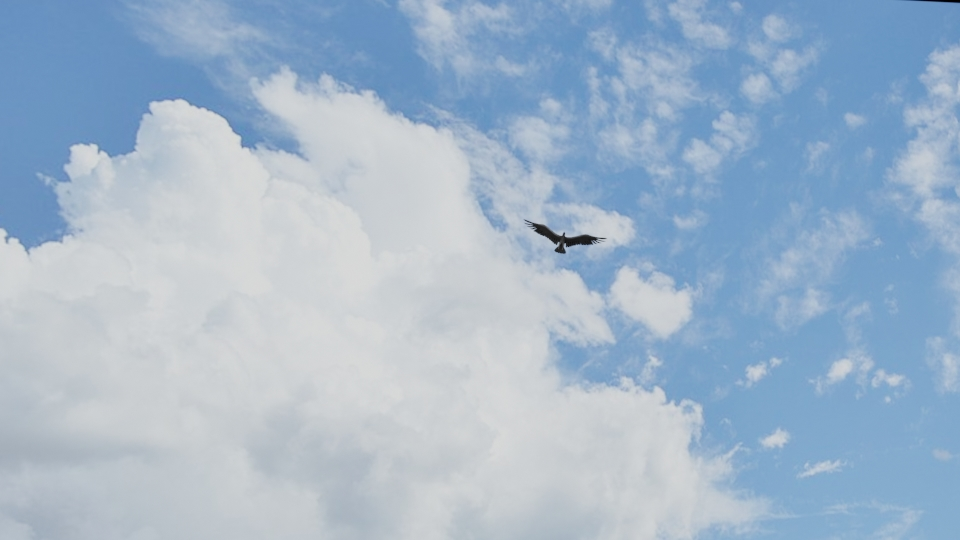bird: (522, 220, 607, 257)
